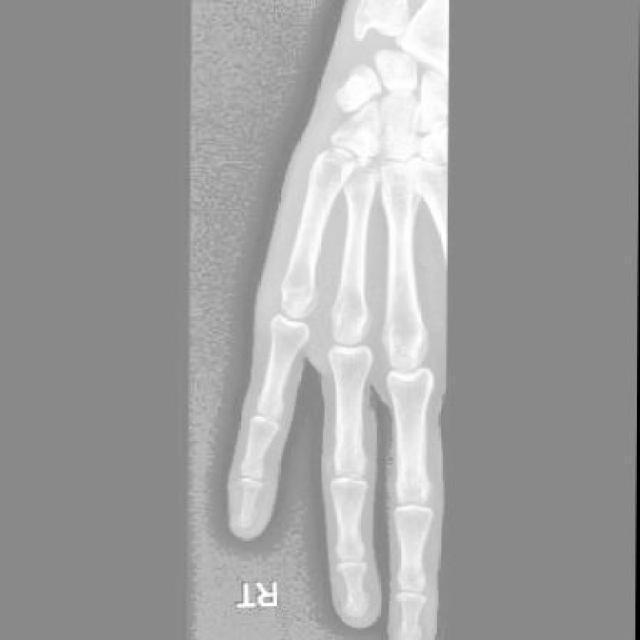Fracture: (243, 454, 270, 477)
